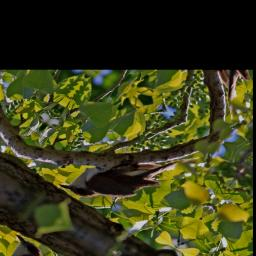Cuckoo: (57, 117, 188, 226)
